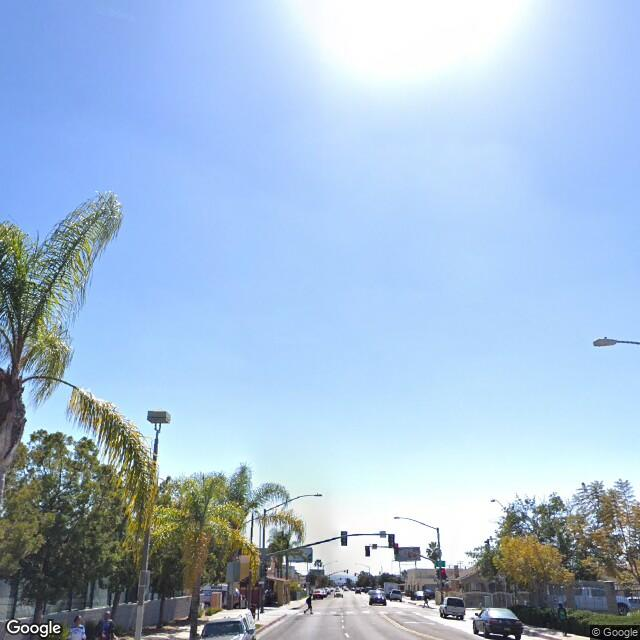light: (588, 335, 617, 351)
